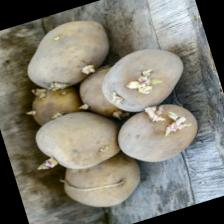potato: (15, 10, 119, 96), (23, 99, 127, 181), (93, 36, 193, 119), (109, 94, 205, 170), (56, 142, 148, 218)
